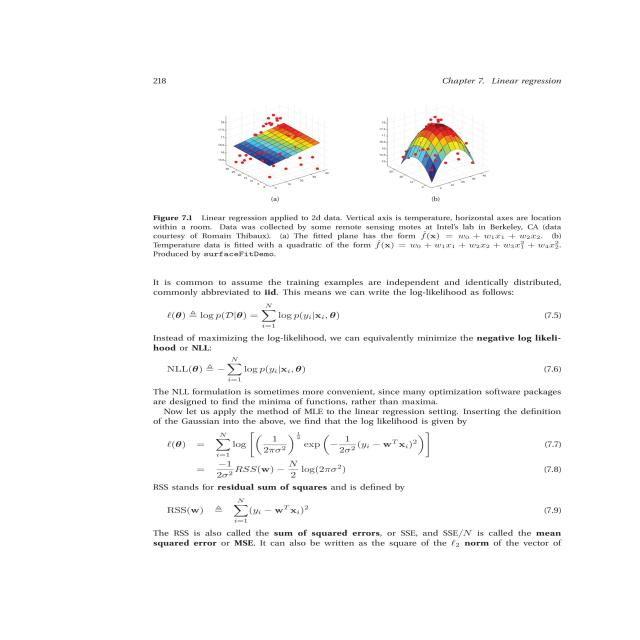diagram: (84, 84, 640, 260)
